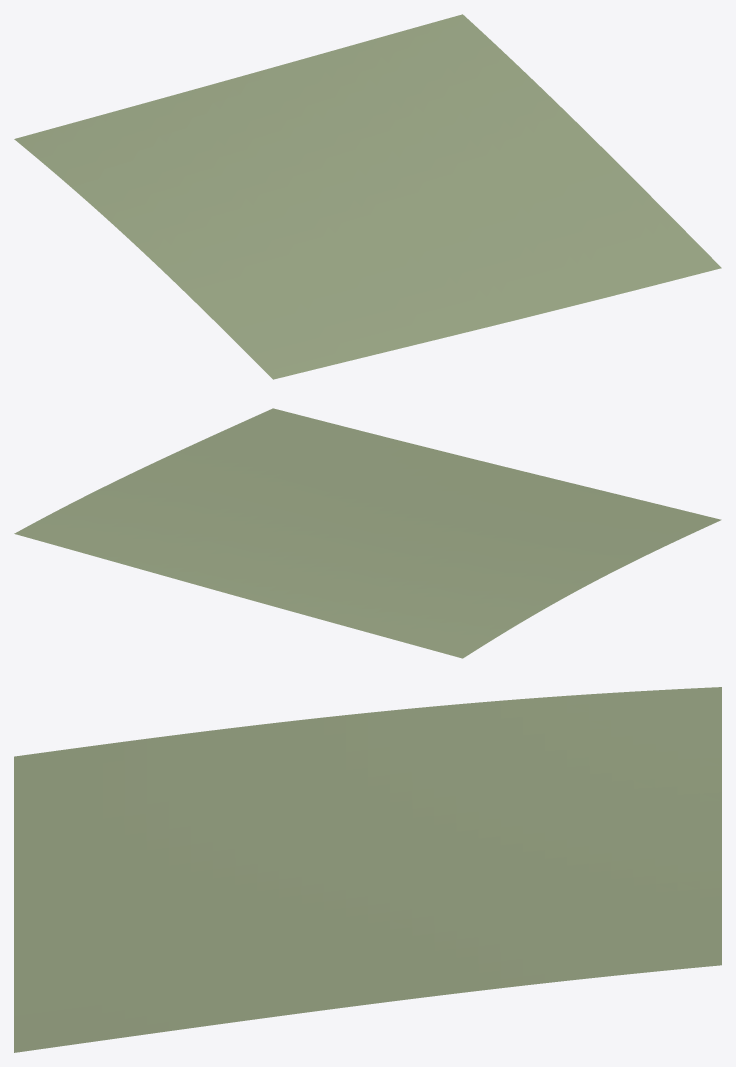
The model's file is desert-25-10.glb.
The picture shows the model from 3 angles, top to bottom: view 1: azimuth 30°, elevation 25°; view 2: azimuth 150°, elevation 25°; view 3: azimuth 270°, elevation 25°; orthographic projection. The views are drawn at different scales.
Parts seen in each view (by area): view 1: desert-25-10; view 2: desert-25-10; view 3: desert-25-10.
Boxes of the visible parts, left/top/right/bottom form: desert-25-10: left=14, top=14, right=721, bottom=379; desert-25-10: left=14, top=408, right=721, bottom=658; desert-25-10: left=14, top=687, right=721, bottom=1052.
Size of the model in its own units: 512 by 72.2 by 512.
